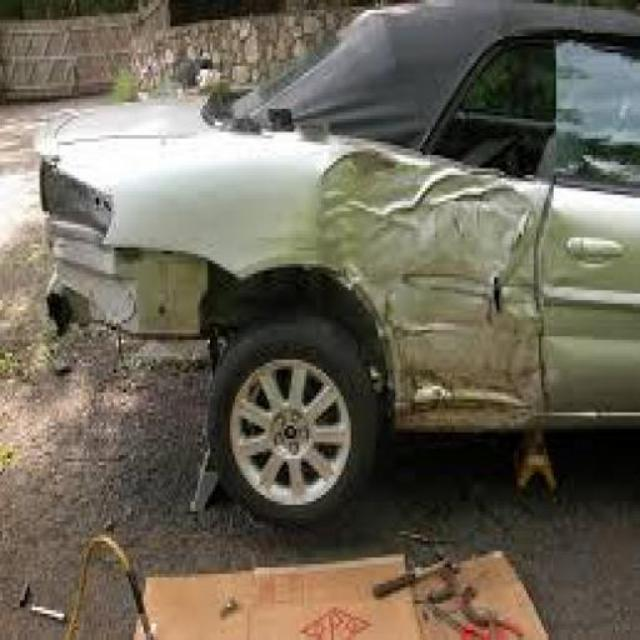dent: (316, 138, 554, 435)
no part: (39, 149, 309, 358)
